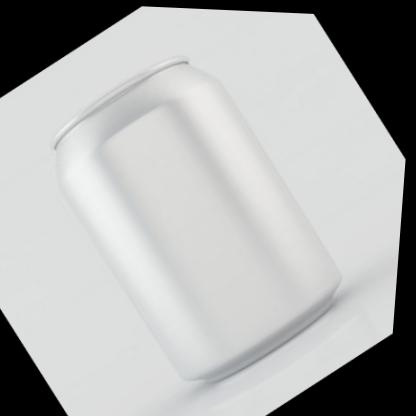metal: (56, 61, 341, 378)
